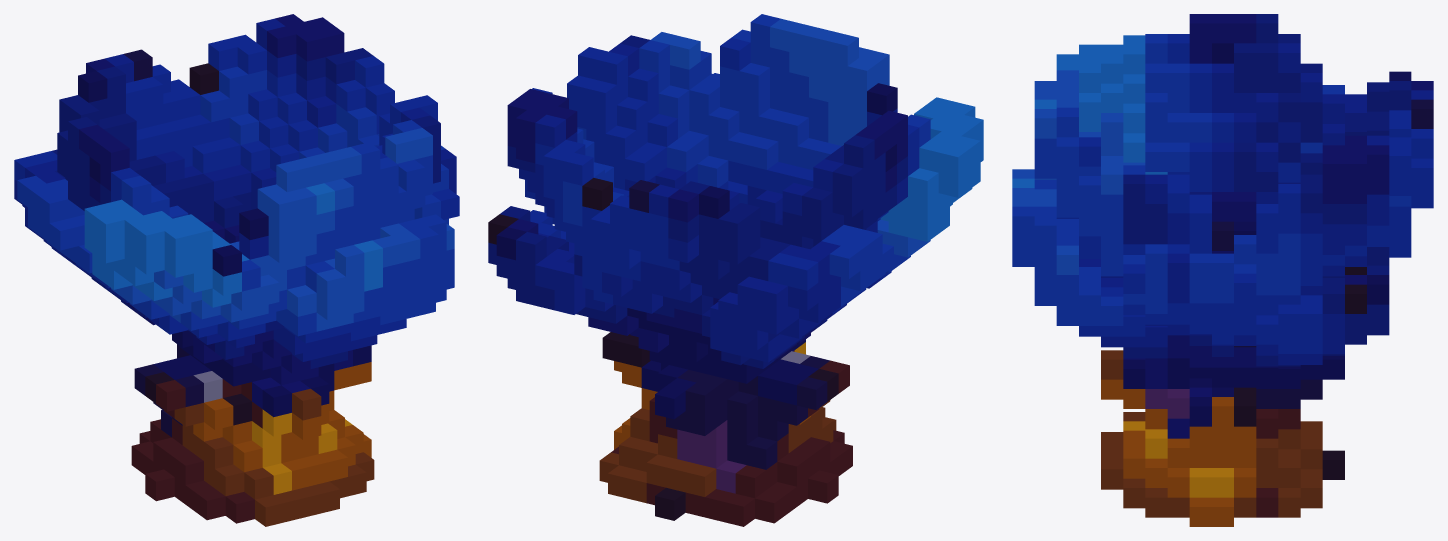
File: overseer-plant-3.glb
3 views of the same model, side by side, from view 1: azimuth 30°, elevation 25°; view 2: azimuth 150°, elevation 25°; view 3: azimuth 270°, elevation 25° (orthographic). The views are drawn at different scales.
Visible parts, largest first — view 1: world; view 2: world; view 3: world.
Part boxes in pixels (<box>): world: <box>14,14,459,526</box>; world: <box>488,14,983,526</box>; world: <box>1012,14,1433,526</box>.
Size of the model in its own units: 0.6241 by 0.5929 by 0.5929.
1 material, 1 textured.
